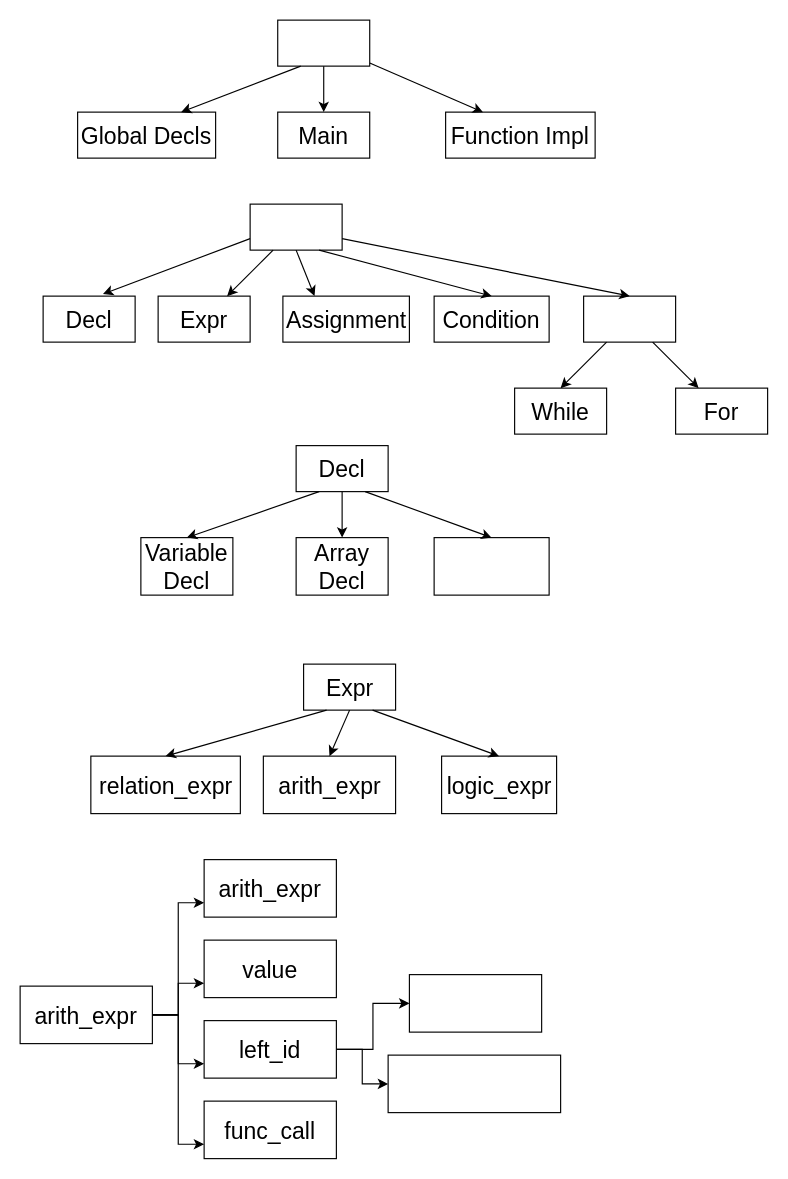
This 788x1179 diagram has some shape labels left out. The centre of each missing label's shape, as x and y in pixels:
"id" belongs at point 475,1002.
"id[expression]" belongs at point 474,1083.
"Loop" belongs at point 629,318.
"Program" belongs at point 323,42.
"ProtoType Decl" belongs at point 491,565.
"Stmt" belongs at point 295,226.
